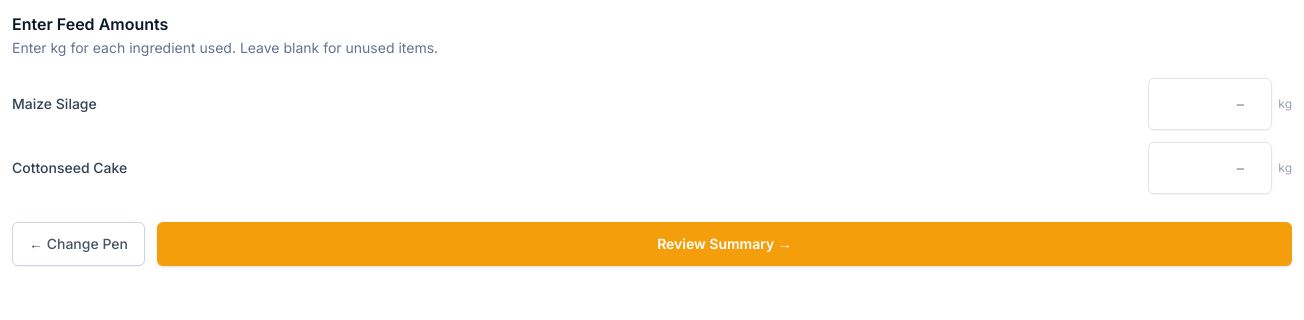
Scenario: IngredientForm › field validation › shows DAT-001 field error for a negative number
Type "-5" into the number field labelled "Maize Silage" at (1210, 104), box [1148, 78, 1272, 130]
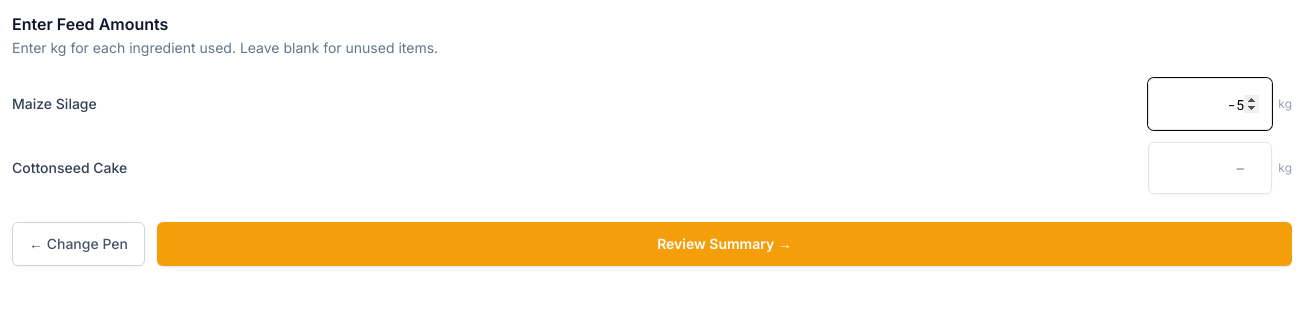
Click the button "Review Summary →" at (724, 244), box [157, 222, 1292, 266]
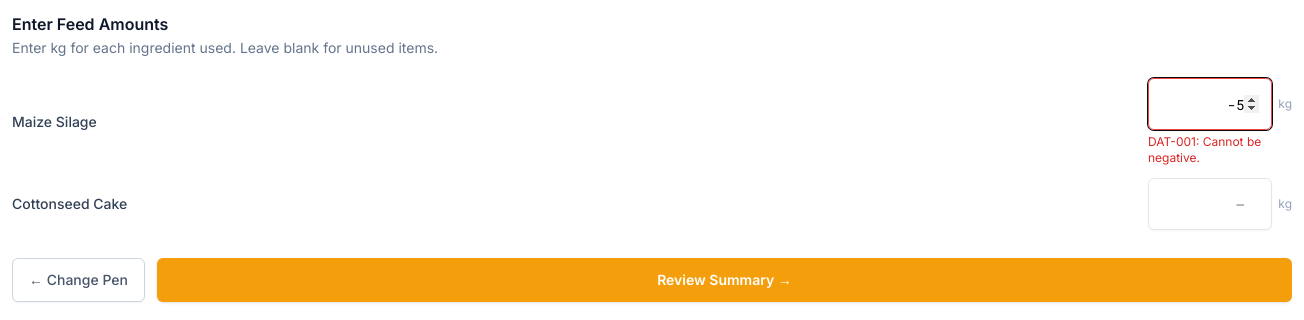
Expected: the text "DAT-001: Cannot be negative." is shown, [1148, 134, 1261, 165]
